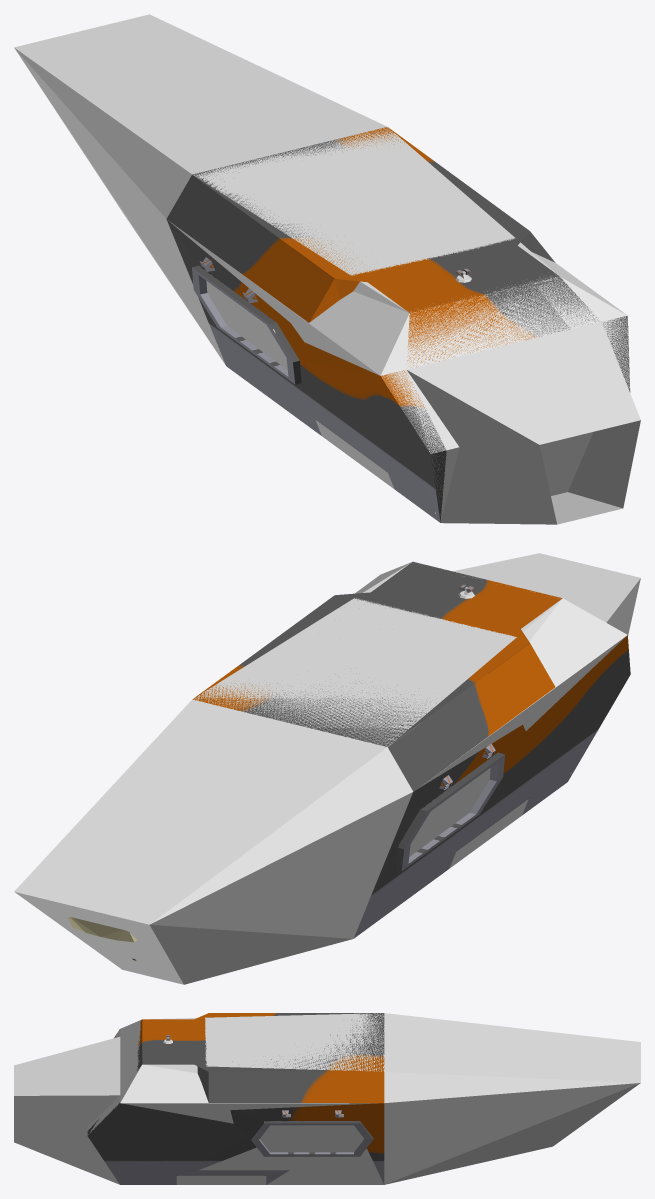
3 views of the same model, one above another, from view 1: azimuth 30°, elevation 25°; view 2: azimuth 150°, elevation 25°; view 3: azimuth 270°, elevation 25° (orthographic). The views are drawn at different scales.
Parts seen in each view (by area): view 1: Fuselage Extents, Exhaust, Fuselage, Debris Mesh.001, Debris Mesh.002, Debris Mesh.004; view 2: Fuselage Extents, Debris Mesh.002, Fuselage, Debris Mesh.001, Exhaust, Debris Mesh.004, Debris Mesh.000; view 3: Fuselage Extents, Debris Mesh.002, Fuselage, Exhaust, Debris Mesh.001, Debris Mesh.004.
Part boxes in pixels (x1=…): Fuselage Extents: x1=14, y1=14, x2=629, y2=521; Exhaust: x1=407, y1=322, x2=640, y2=524; Fuselage: x1=166, y1=127, x2=598, y2=519; Debris Mesh.001: x1=267, y1=277, x2=630, y2=522; Debris Mesh.002: x1=192, y1=131, x2=555, y2=324; Debris Mesh.004: x1=198, y1=293, x2=321, y2=435; Fuselage Extents: x1=14, y1=562, x2=627, y2=984; Debris Mesh.002: x1=192, y1=562, x2=555, y2=848; Fuselage: x1=341, y1=565, x2=630, y2=938; Debris Mesh.001: x1=414, y1=562, x2=630, y2=827; Exhaust: x1=453, y1=553, x2=640, y2=635; Debris Mesh.004: x1=355, y1=814, x2=477, y2=935; Debris Mesh.000: x1=68, y1=917, x2=136, y2=942; Fuselage Extents: x1=87, y1=1013, x2=640, y2=1184; Debris Mesh.002: x1=142, y1=1013, x2=384, y2=1158; Fuselage: x1=87, y1=1013, x2=384, y2=1184; Exhaust: x1=14, y1=1037, x2=120, y2=1184; Debris Mesh.001: x1=88, y1=1019, x2=269, y2=1184; Debris Mesh.004: x1=207, y1=1152, x2=384, y2=1184.
Size of what is drawn, in the model's own units: 12.82 by 45.49 by 10.34.
7 materials, 5 textured.
